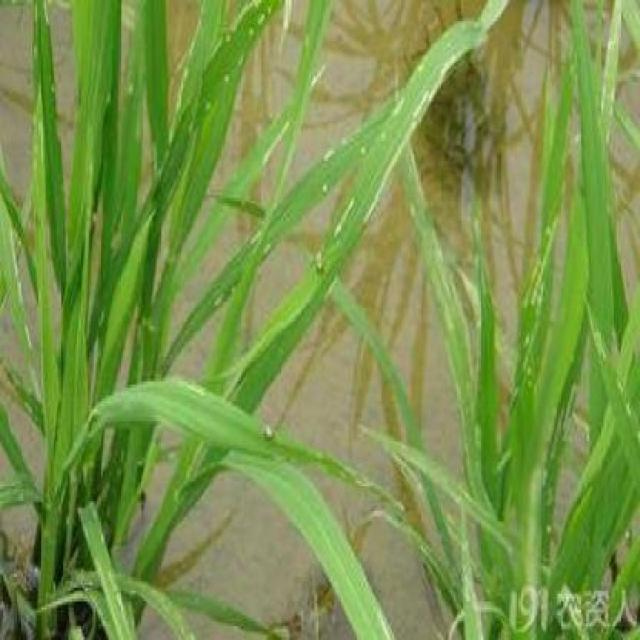rice-bug: (260, 417, 282, 446), (312, 243, 328, 274)
